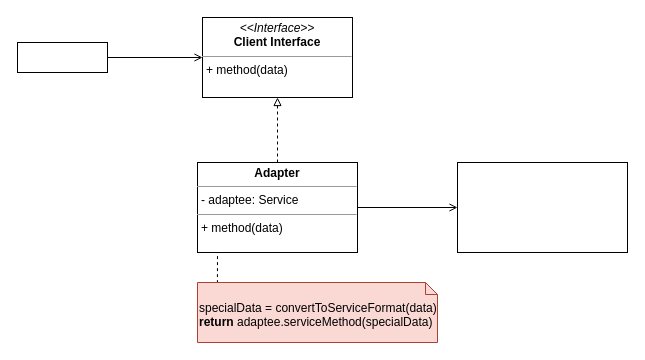
This 645x360 diagram has some shape labels left out. Each missing label, with the centre of its shape:
Client: [62,57]
Service ... + serviceMethod(specialData): [542,207]
